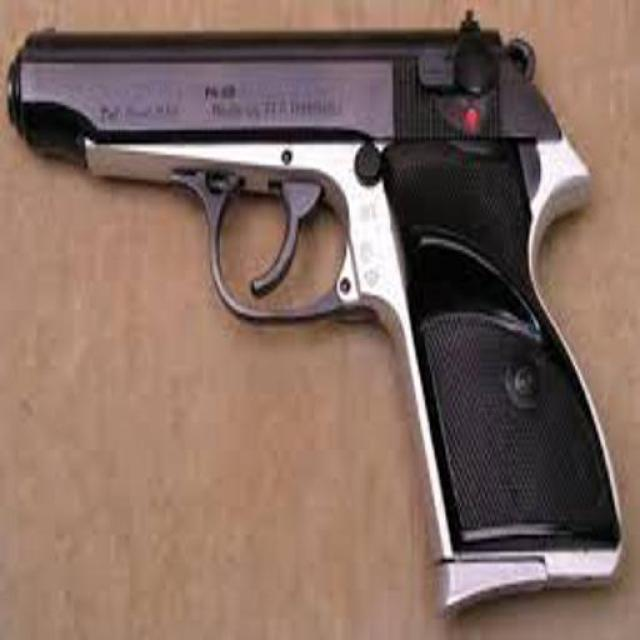pistol: (9, 14, 628, 604)
